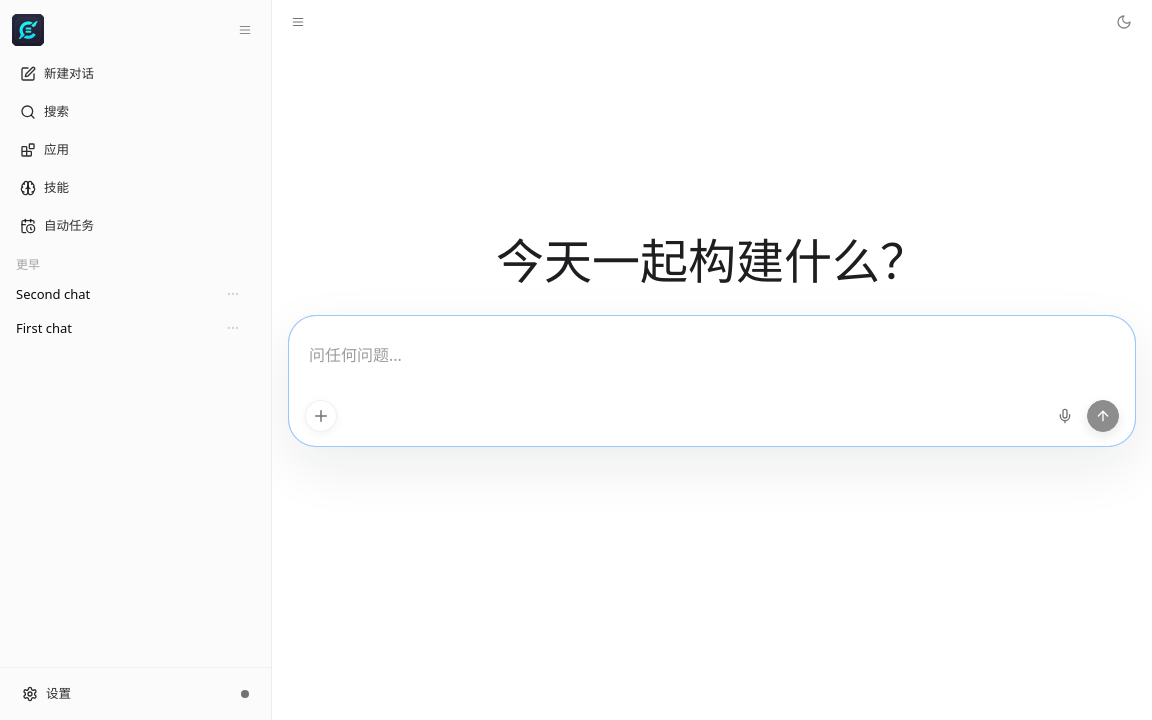
Test case: App layout › shows localized bound automations in the first delete confirmation
Expected: the button "First chat" is shown, [16,312,189,344]
Press the mouse on the button named "“First chat” 的会话操作": (233, 328) [221,316,245,340]
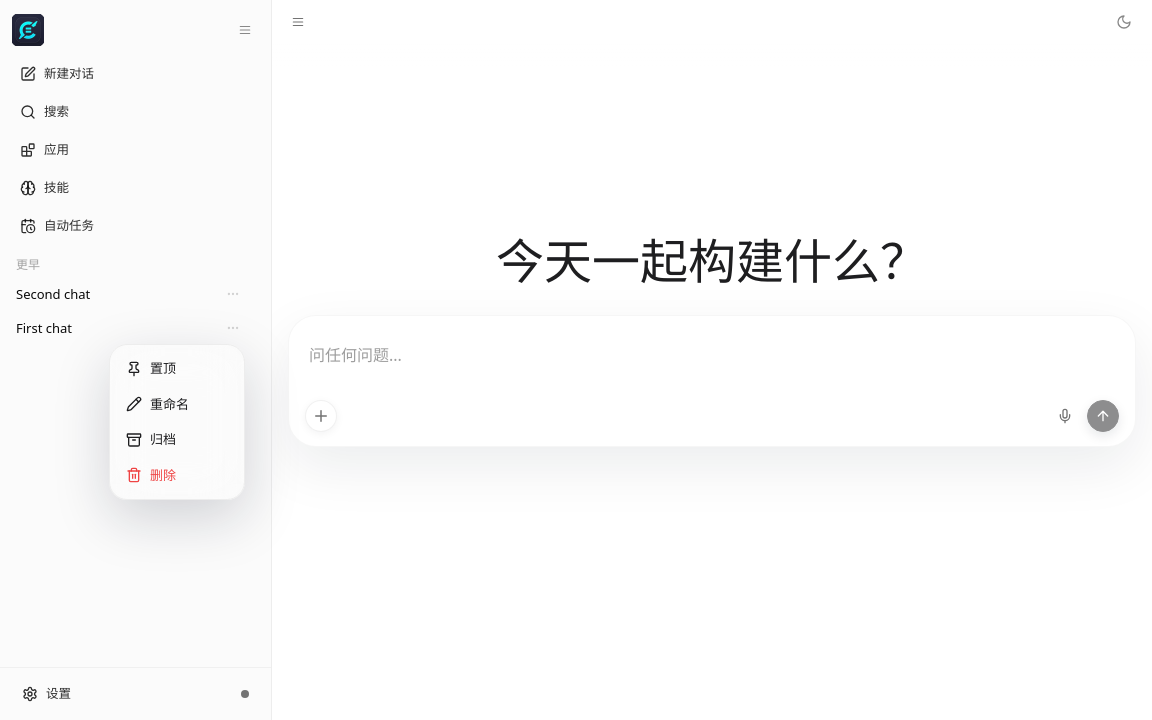
Click the menu item "删除": (151, 474) [126,466,176,484]
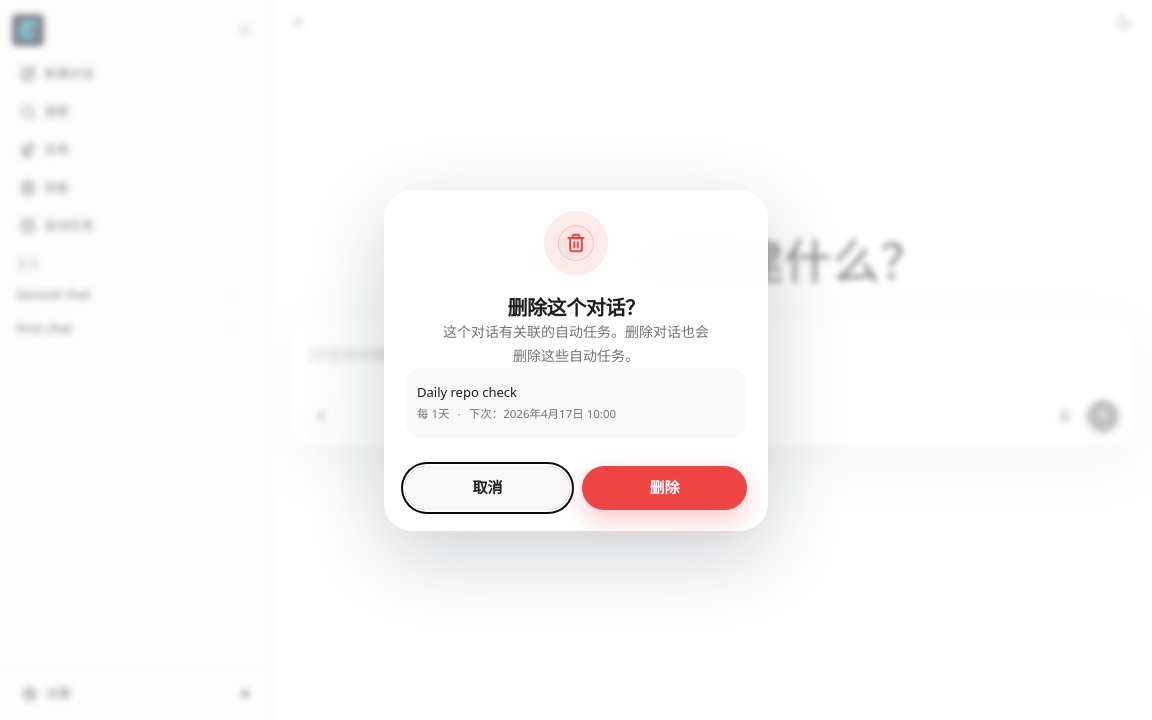
Expected: the text "Daily repo check" is shown, [417,382,517,400]
Expected: the text "这个对话有关联的自动任务。删除对话也会删除这些自动任务。" is shown, [440,320,712,368]
Click the button "删除": (664, 488) [582,466,747,510]
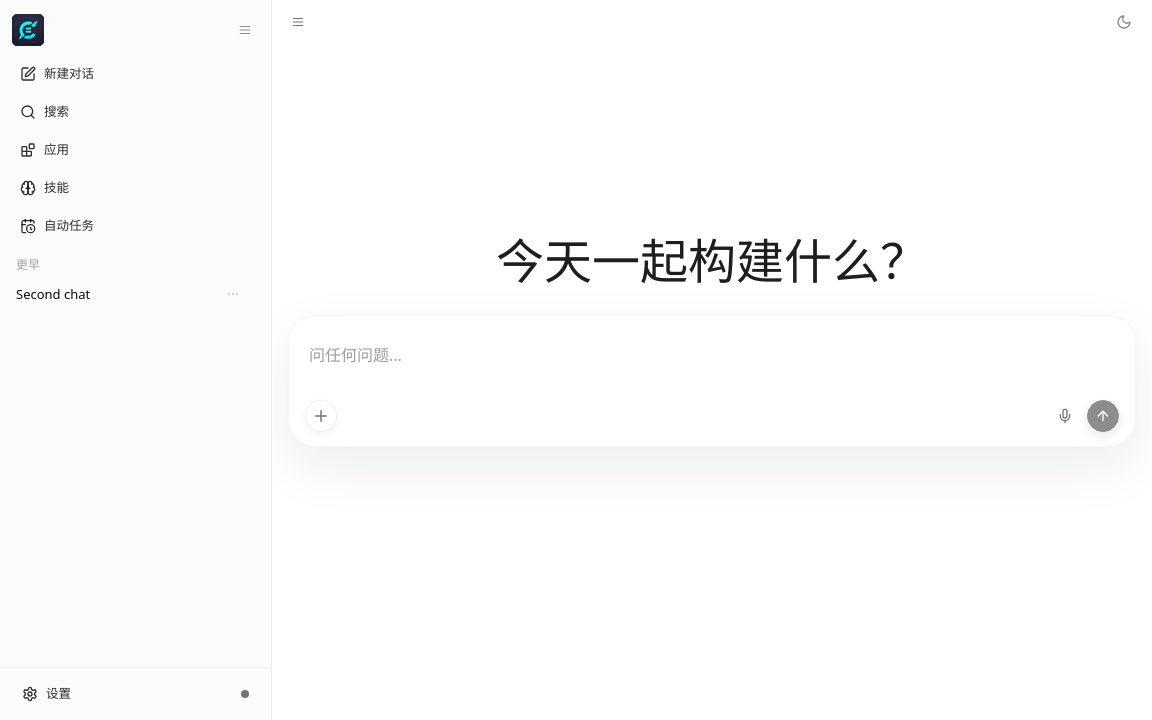
Expected: the text "Daily repo check" is gone
